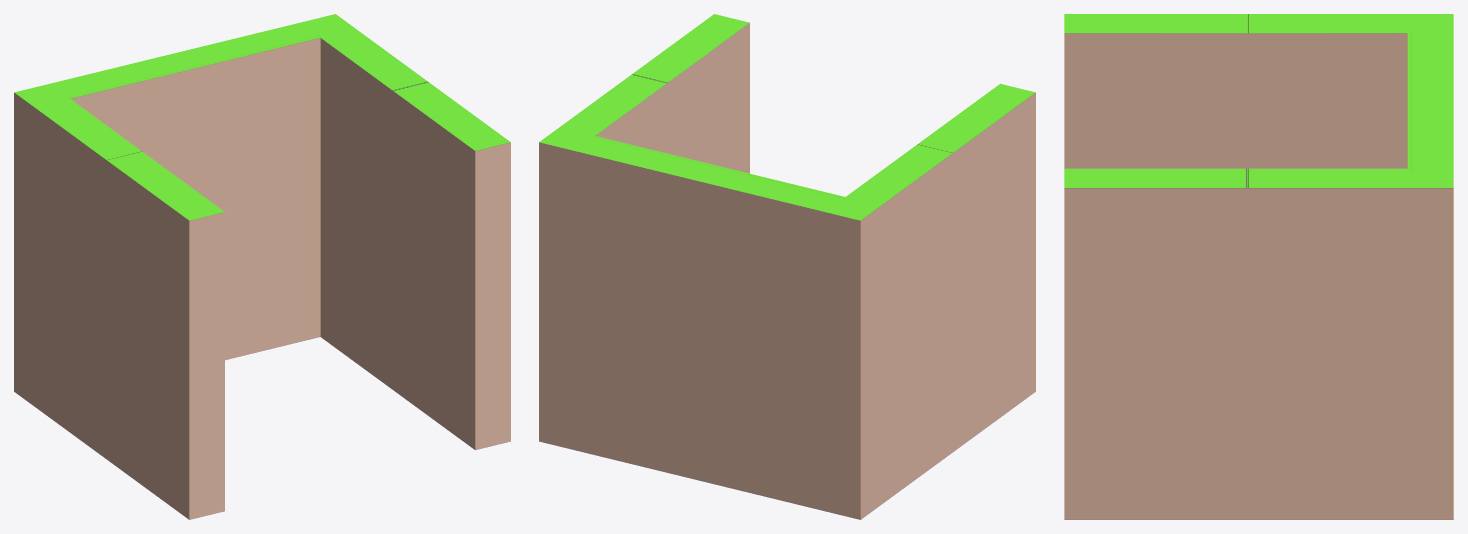
The model's file is MK_MK_Wall_DeadEnd_B.fbx.
3 renders of one model, left to right at view 1: azimuth 30°, elevation 25°; view 2: azimuth 150°, elevation 25°; view 3: azimuth 270°, elevation 25°, orthographic. The views are drawn at different scales.
Parts seen in each view (by area): view 1: MK_Wall_DeadEnd_B; view 2: MK_Wall_DeadEnd_B; view 3: MK_Wall_DeadEnd_B.
Boxes of the visible parts, bbox=[...] form: MK_Wall_DeadEnd_B: bbox=[14, 14, 510, 519]; MK_Wall_DeadEnd_B: bbox=[539, 14, 1035, 519]; MK_Wall_DeadEnd_B: bbox=[1064, 14, 1453, 519].
Size of the model in its own units: 202 by 180 by 191.
1 material, 1 textured.
